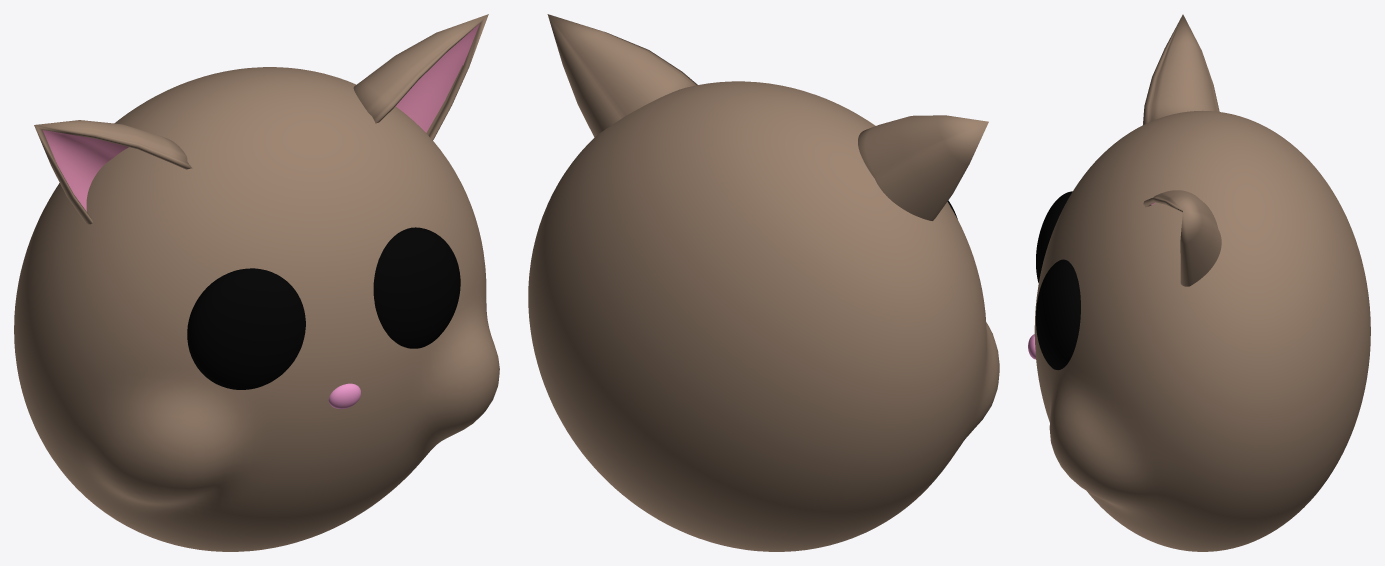
Rendered from catWeb.glb.
3 views of the same model, side by side, from view 1: azimuth 30°, elevation 25°; view 2: azimuth 150°, elevation 25°; view 3: azimuth 270°, elevation 25° (orthographic). The views are drawn at different scales.
Visible parts, largest first — view 1: Cube; view 2: Cube; view 3: Cube.
Part boxes in pixels (x1,y1,x2,y2): Cube: (14, 14, 499, 551); Cube: (528, 14, 999, 551); Cube: (1028, 14, 1370, 551).
Size of the model in its own units: 3.63 by 3.62 by 2.68.
